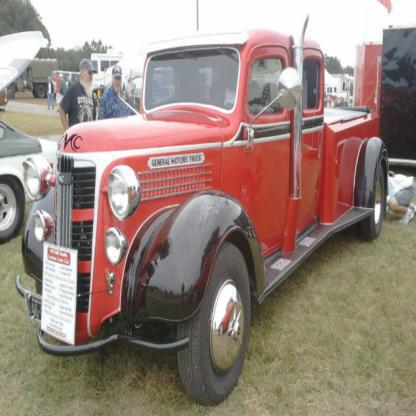car: (23, 33, 389, 406)
